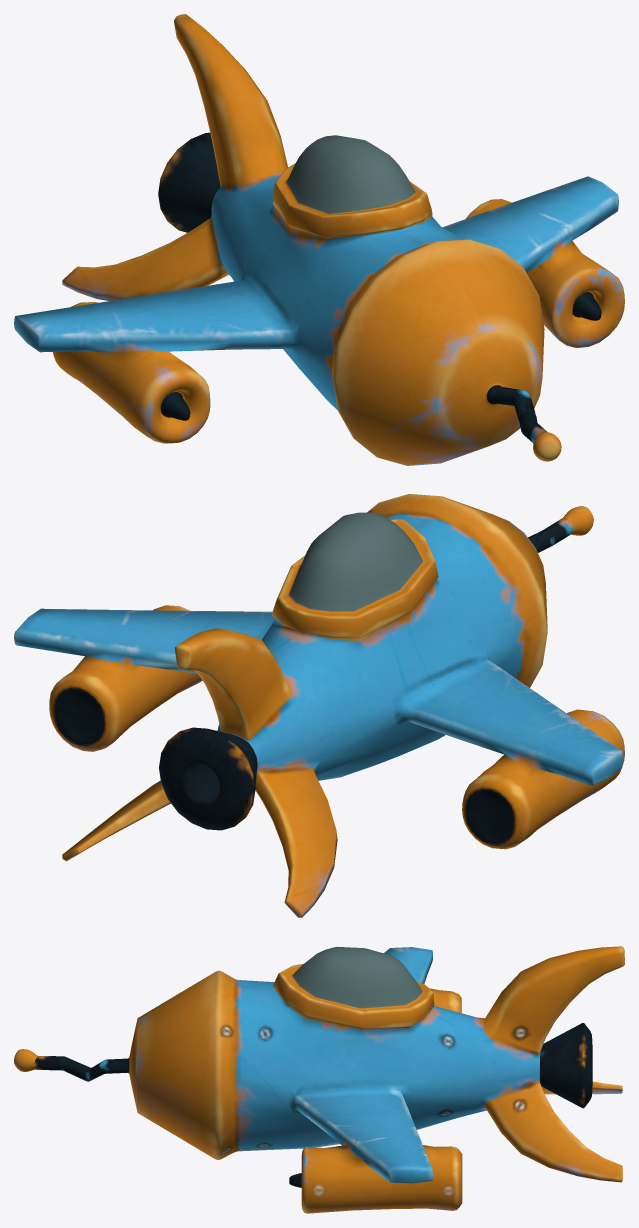
The model's file is rocket.glb.
3 views of the same model, one above another, from view 1: azimuth 30°, elevation 25°; view 2: azimuth 150°, elevation 25°; view 3: azimuth 270°, elevation 25° (orthographic). The views are drawn at different scales.
Visible parts, largest first — view 1: rocket_mp__0; view 2: rocket_mp__0; view 3: rocket_mp__0.
Part boxes in pixels (x1,y1,x2,y2): rocket_mp__0: (14,14,624,465); rocket_mp__0: (14,494,624,917); rocket_mp__0: (14,946,624,1213).
Bounding box in the file's own units: 4.97 × 2.13 × 5.77.
Materials: 1 (1 with a texture image).
